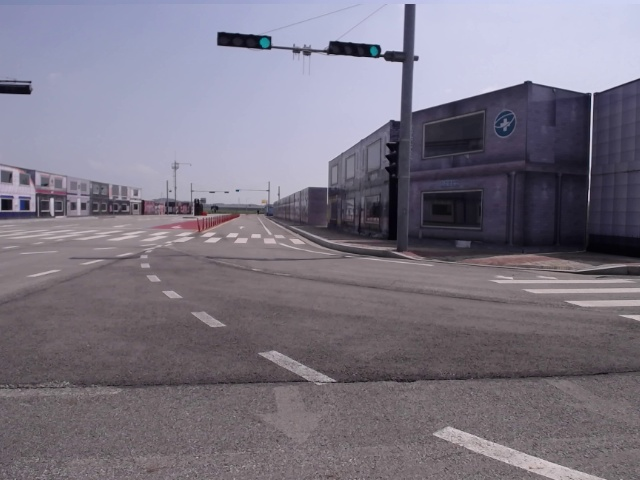straight_green_4: (218, 32, 272, 50), (328, 42, 381, 60)
